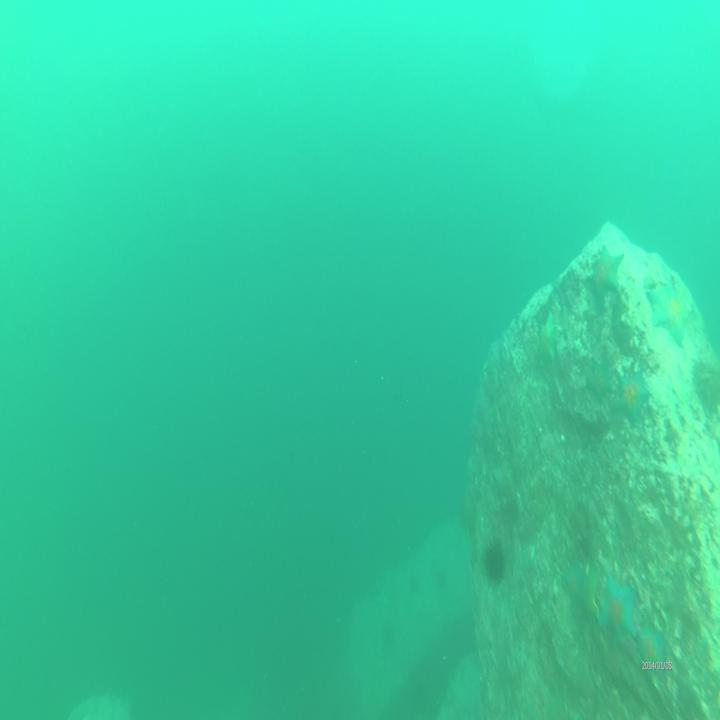echinus: (482, 536, 510, 582)
starfish: (649, 273, 694, 344), (600, 576, 640, 647), (612, 366, 652, 430), (562, 557, 600, 622), (586, 245, 624, 301), (637, 623, 668, 681), (537, 309, 561, 363)
